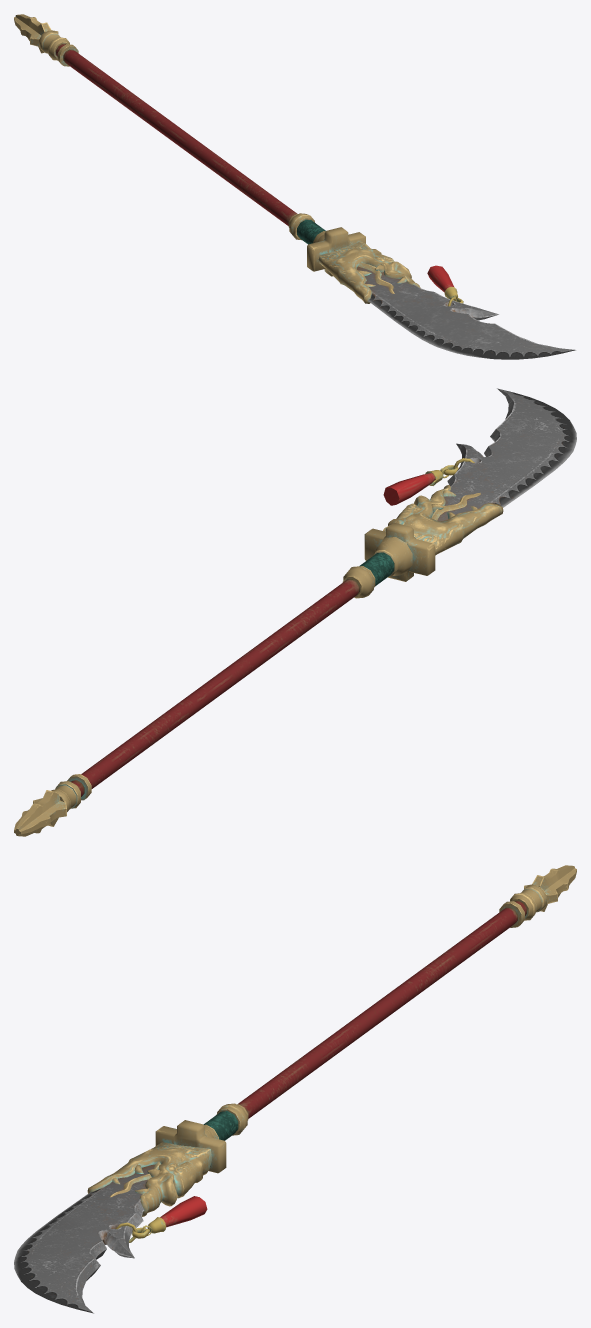
Rendered from sb_qlyyd.FBX.
3 renders of one model, top to bottom at view 1: azimuth 30°, elevation 25°; view 2: azimuth 150°, elevation 25°; view 3: azimuth 330°, elevation 25°, orthographic. The views are drawn at different scales.
Visible parts, largest first — view 1: sb_qlyyd; view 2: sb_qlyyd; view 3: sb_qlyyd.
Part boxes in pixels (x1,y1,x2,y2): sb_qlyyd: (14,14,575,359); sb_qlyyd: (14,388,576,836); sb_qlyyd: (14,865,576,1313).
Bounding box in the file's own units: 16.43 × 6.08 × 125.
1 material, 1 textured.
